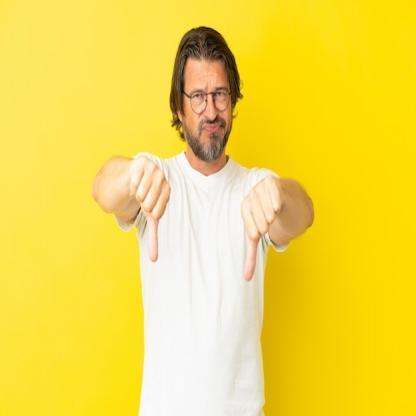thumb_down: (239, 168, 286, 288), (127, 150, 172, 268)
